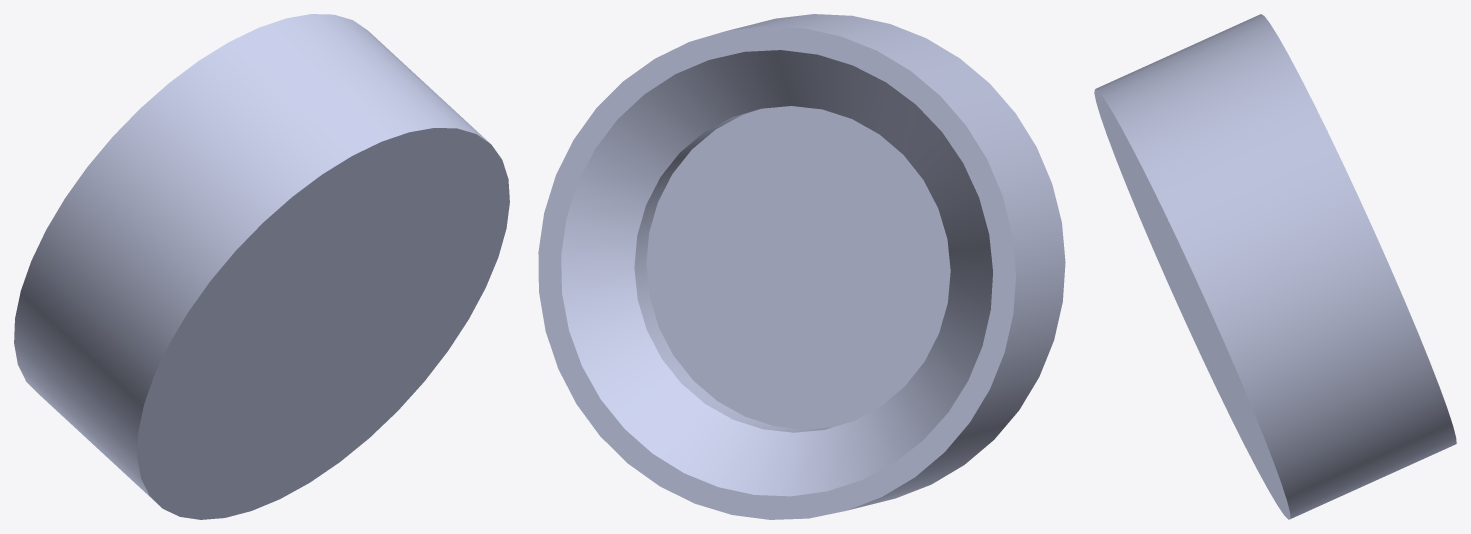
Rendered from hand_4.obj.
3 renders of one model, left to right at view 1: azimuth 30°, elevation 25°; view 2: azimuth 150°, elevation 25°; view 3: azimuth 270°, elevation 25°, orthographic. The views are drawn at different scales.
Parts seen in each view (by area): view 1: Body1; view 2: Body1; view 3: Body1.
Boxes of the visible parts, left/top/right/bottom form: Body1: left=14, top=14, right=509, bottom=519; Body1: left=538, top=14, right=1065, bottom=519; Body1: left=1094, top=14, right=1456, bottom=519.
Bounding box in the file's own units: 0.0148 × 0.015 × 0.0107.
